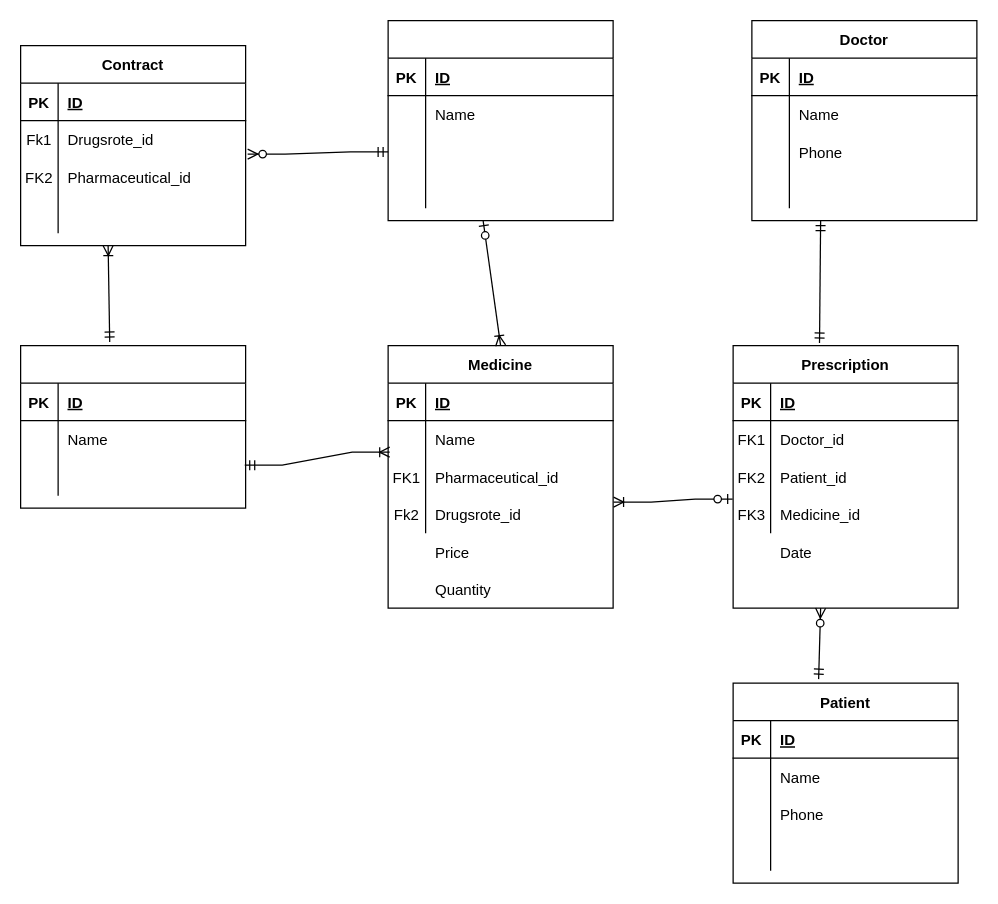
This 998x904 diagram has some shape labels left out. Here are the shapes that lost their labels. From the top down, the box of each, then its label:
(387, 19, 613, 221): Drugsrote
(19, 344, 246, 508): Pharmaceutical company
